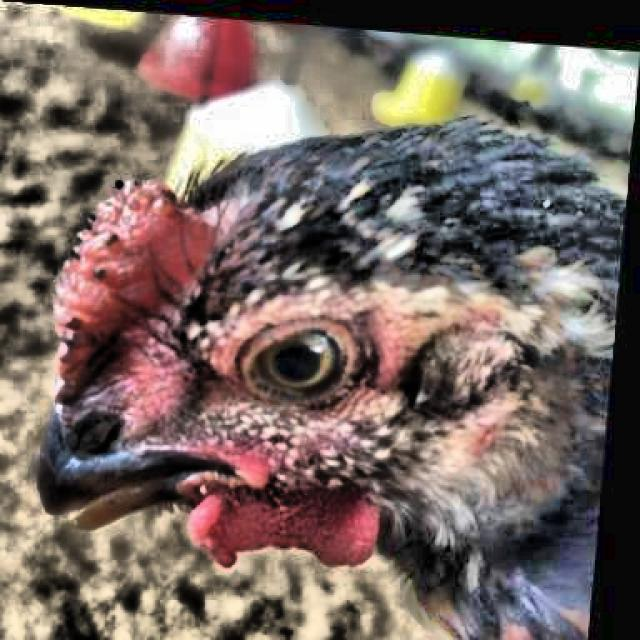Healthy: (215, 312, 382, 422)
